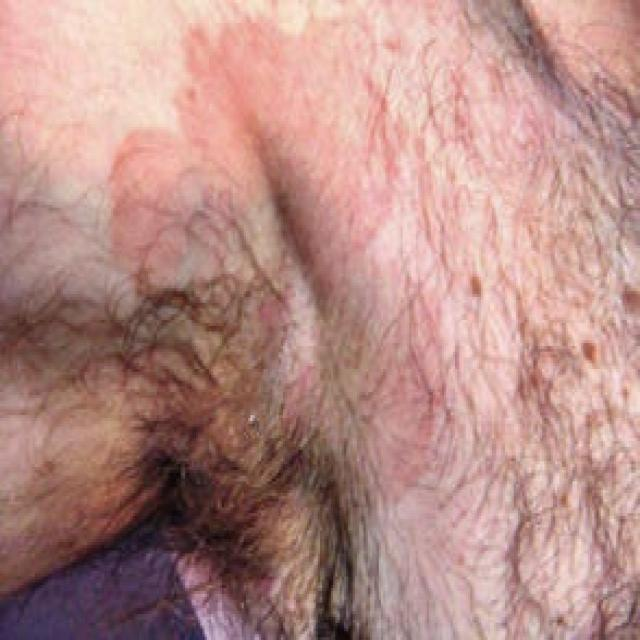Tinea Ringworm Candidiasis and other Fungal Infections: (78, 25, 478, 514)
